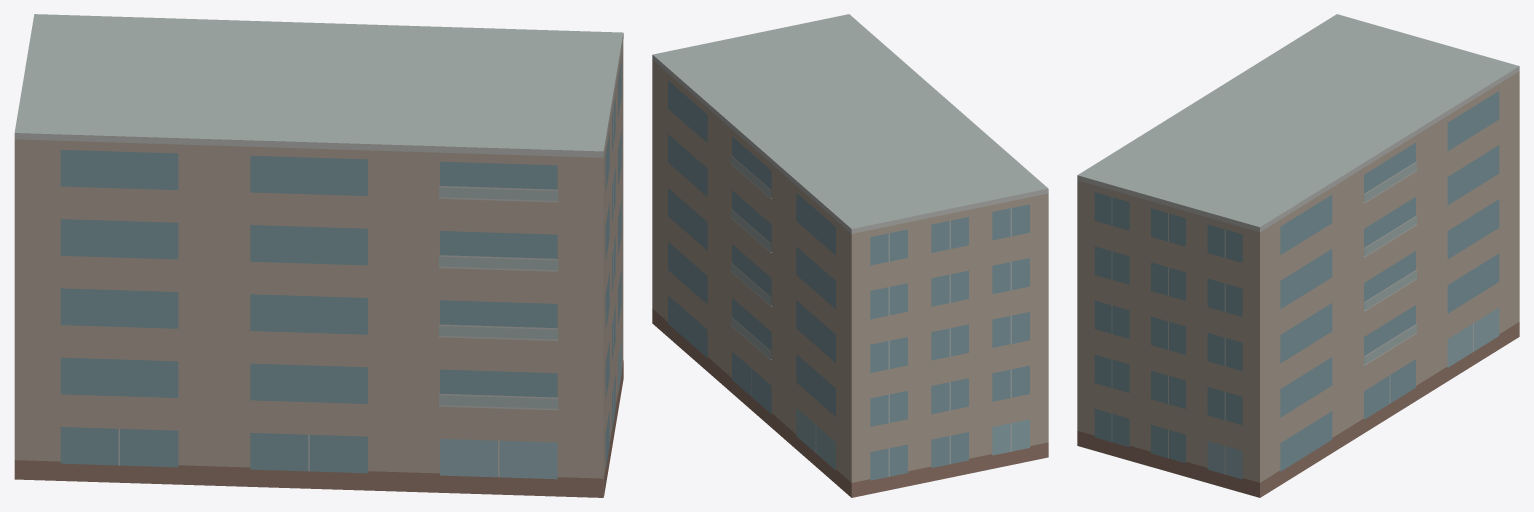
File: survey-upis-32654017.glb
3 renders of one model, left to right at view 1: azimuth 30°, elevation 25°; view 2: azimuth 150°, elevation 25°; view 3: azimuth 270°, elevation 25°, orthographic. The views are drawn at different scales.
Parts seen in each view (by area): view 1: survey-upis-32654017.tmp; view 2: survey-upis-32654017.tmp; view 3: survey-upis-32654017.tmp.
Boxes of the visible parts, x1=… form: survey-upis-32654017.tmp: x1=14, y1=14, x2=623, y2=497; survey-upis-32654017.tmp: x1=652, y1=14, x2=1048, y2=497; survey-upis-32654017.tmp: x1=1077, y1=14, x2=1519, y2=497.
Size of the model in its own units: 22.49 by 13.3 by 19.71.
